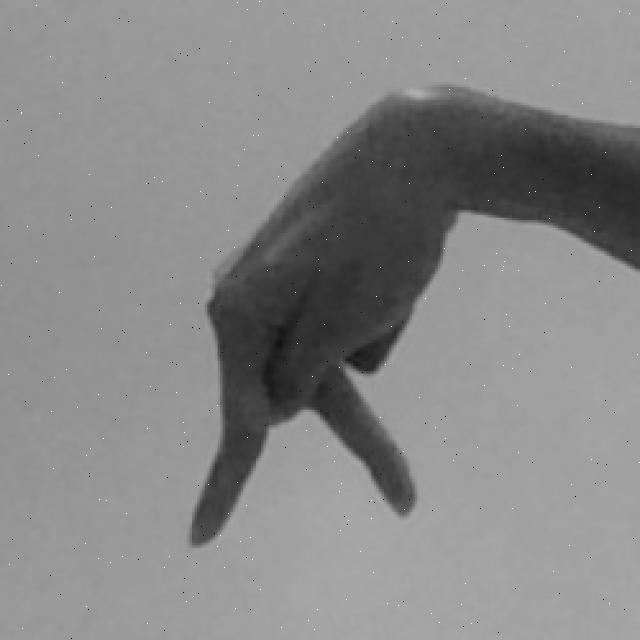P: (170, 69, 640, 553)
